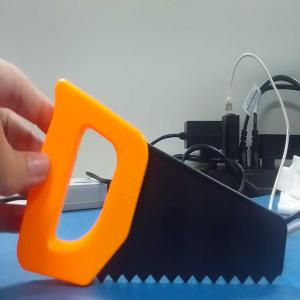serrote: (30, 76, 283, 286)
